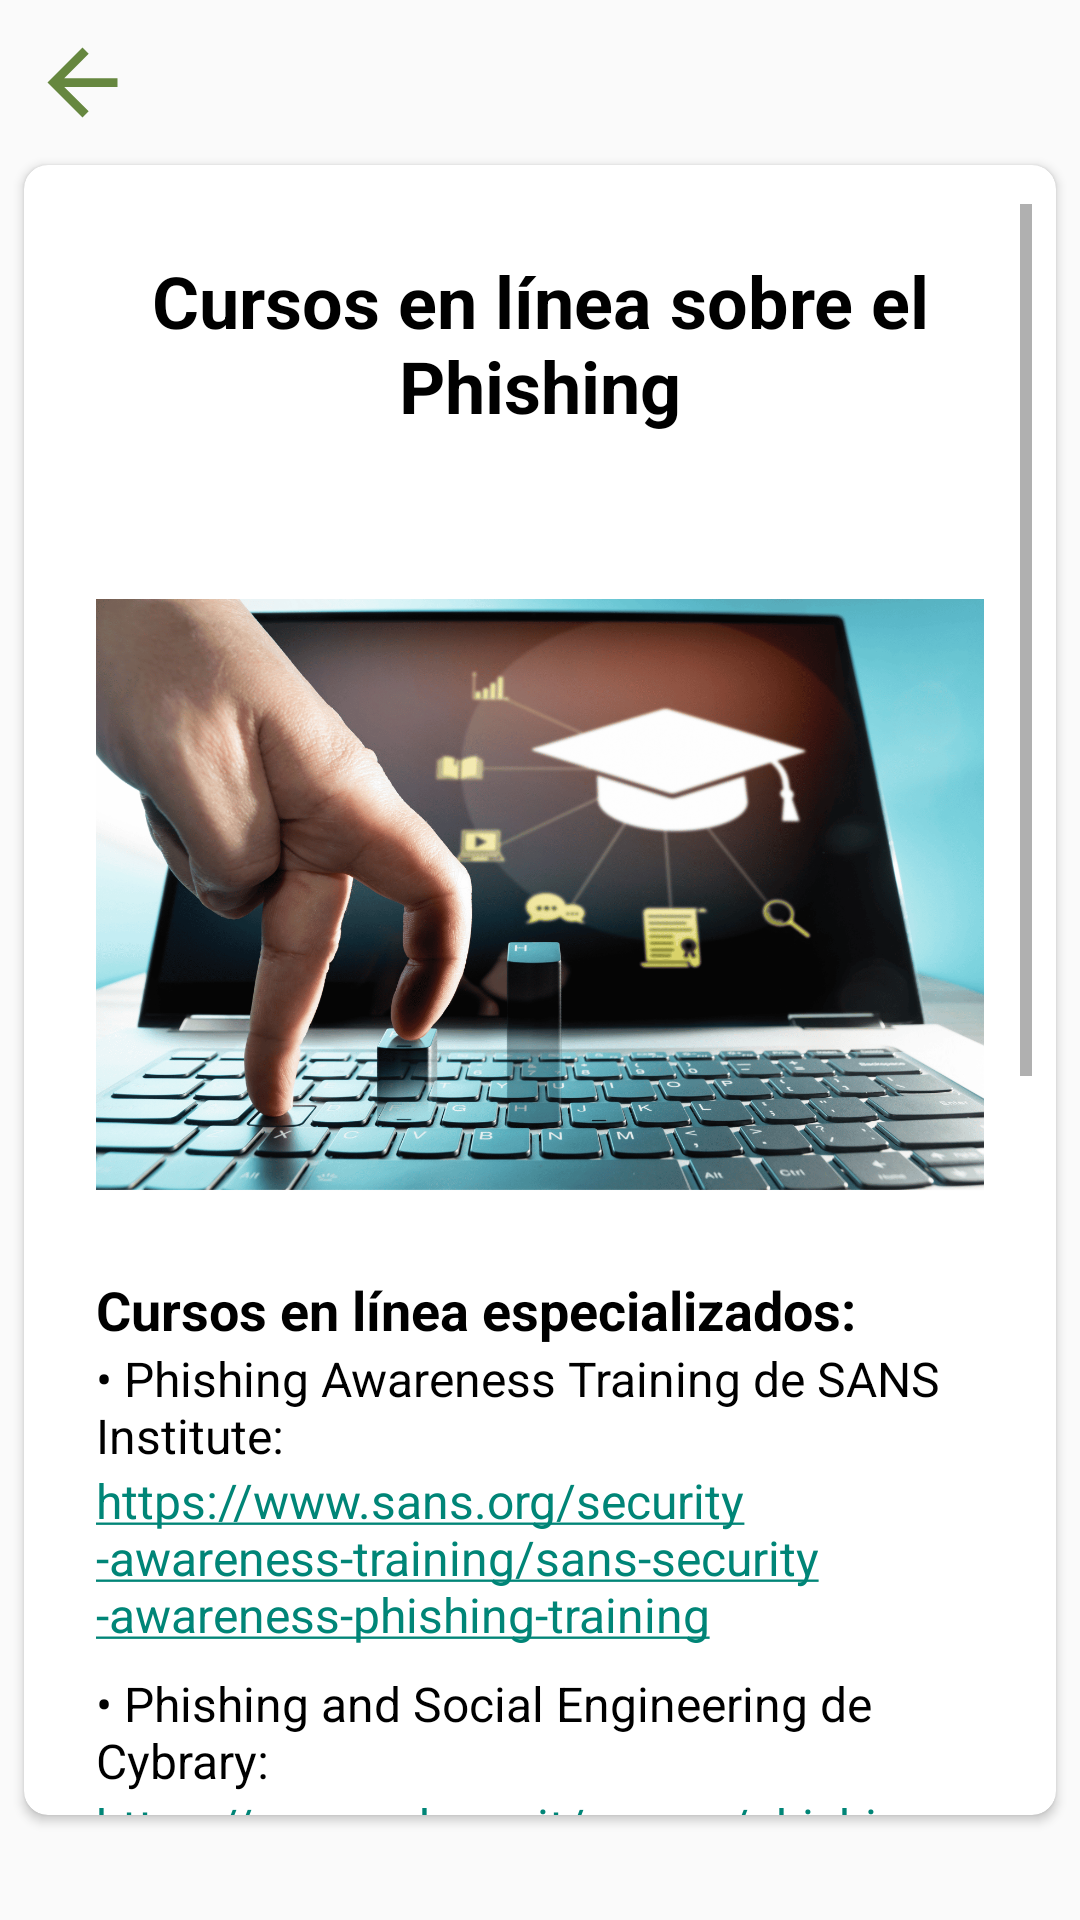

Point at icon controls on the screen. Image size 1080px x 1920px, points as point (x, y).
back arrow: point (82, 82)
